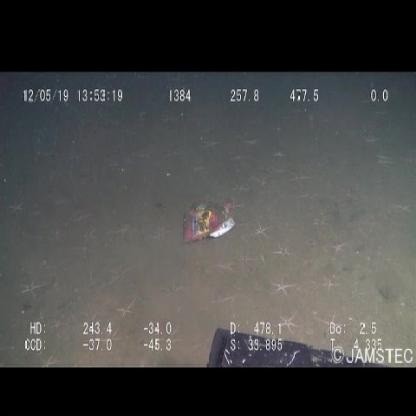Rov: (203, 322, 410, 366)
Rác: (178, 194, 241, 244)
